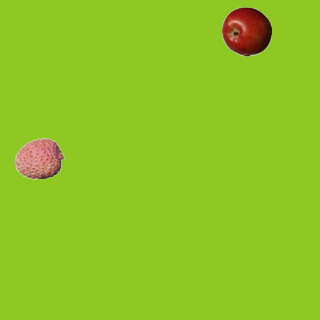Apple Braeburn: (221, 6, 271, 56)
Lychee: (14, 133, 64, 183)
